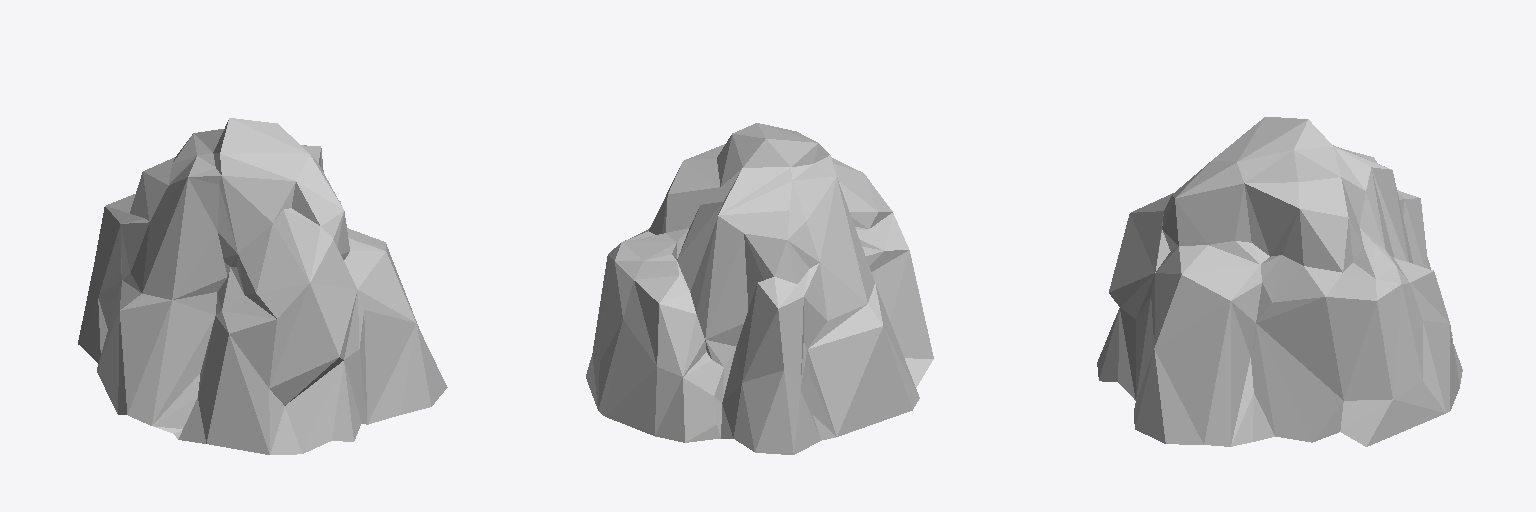
File: Rock_big_single_b_LOD3.obj
3 renders of one model, left to right at view 1: azimuth 30°, elevation 25°; view 2: azimuth 150°, elevation 25°; view 3: azimuth 270°, elevation 25°, orthographic.
Parts seen in each view (by area): view 1: Rock_big_single_b; view 2: Rock_big_single_b; view 3: Rock_big_single_b.
Boxes of the visible parts, box(x1,y1,x2,y2) form: Rock_big_single_b: box(78, 118, 447, 454); Rock_big_single_b: box(586, 123, 933, 454); Rock_big_single_b: box(1097, 117, 1462, 446).
Bounding box in the file's own units: 128 × 113 × 143.